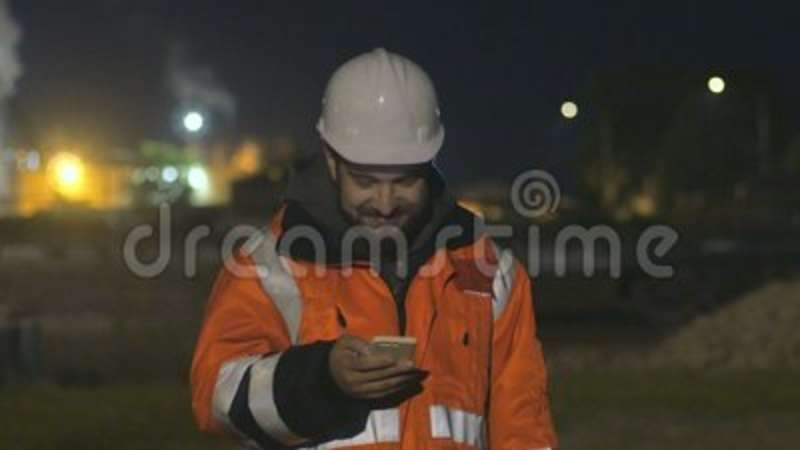white: (312, 47, 449, 238)
